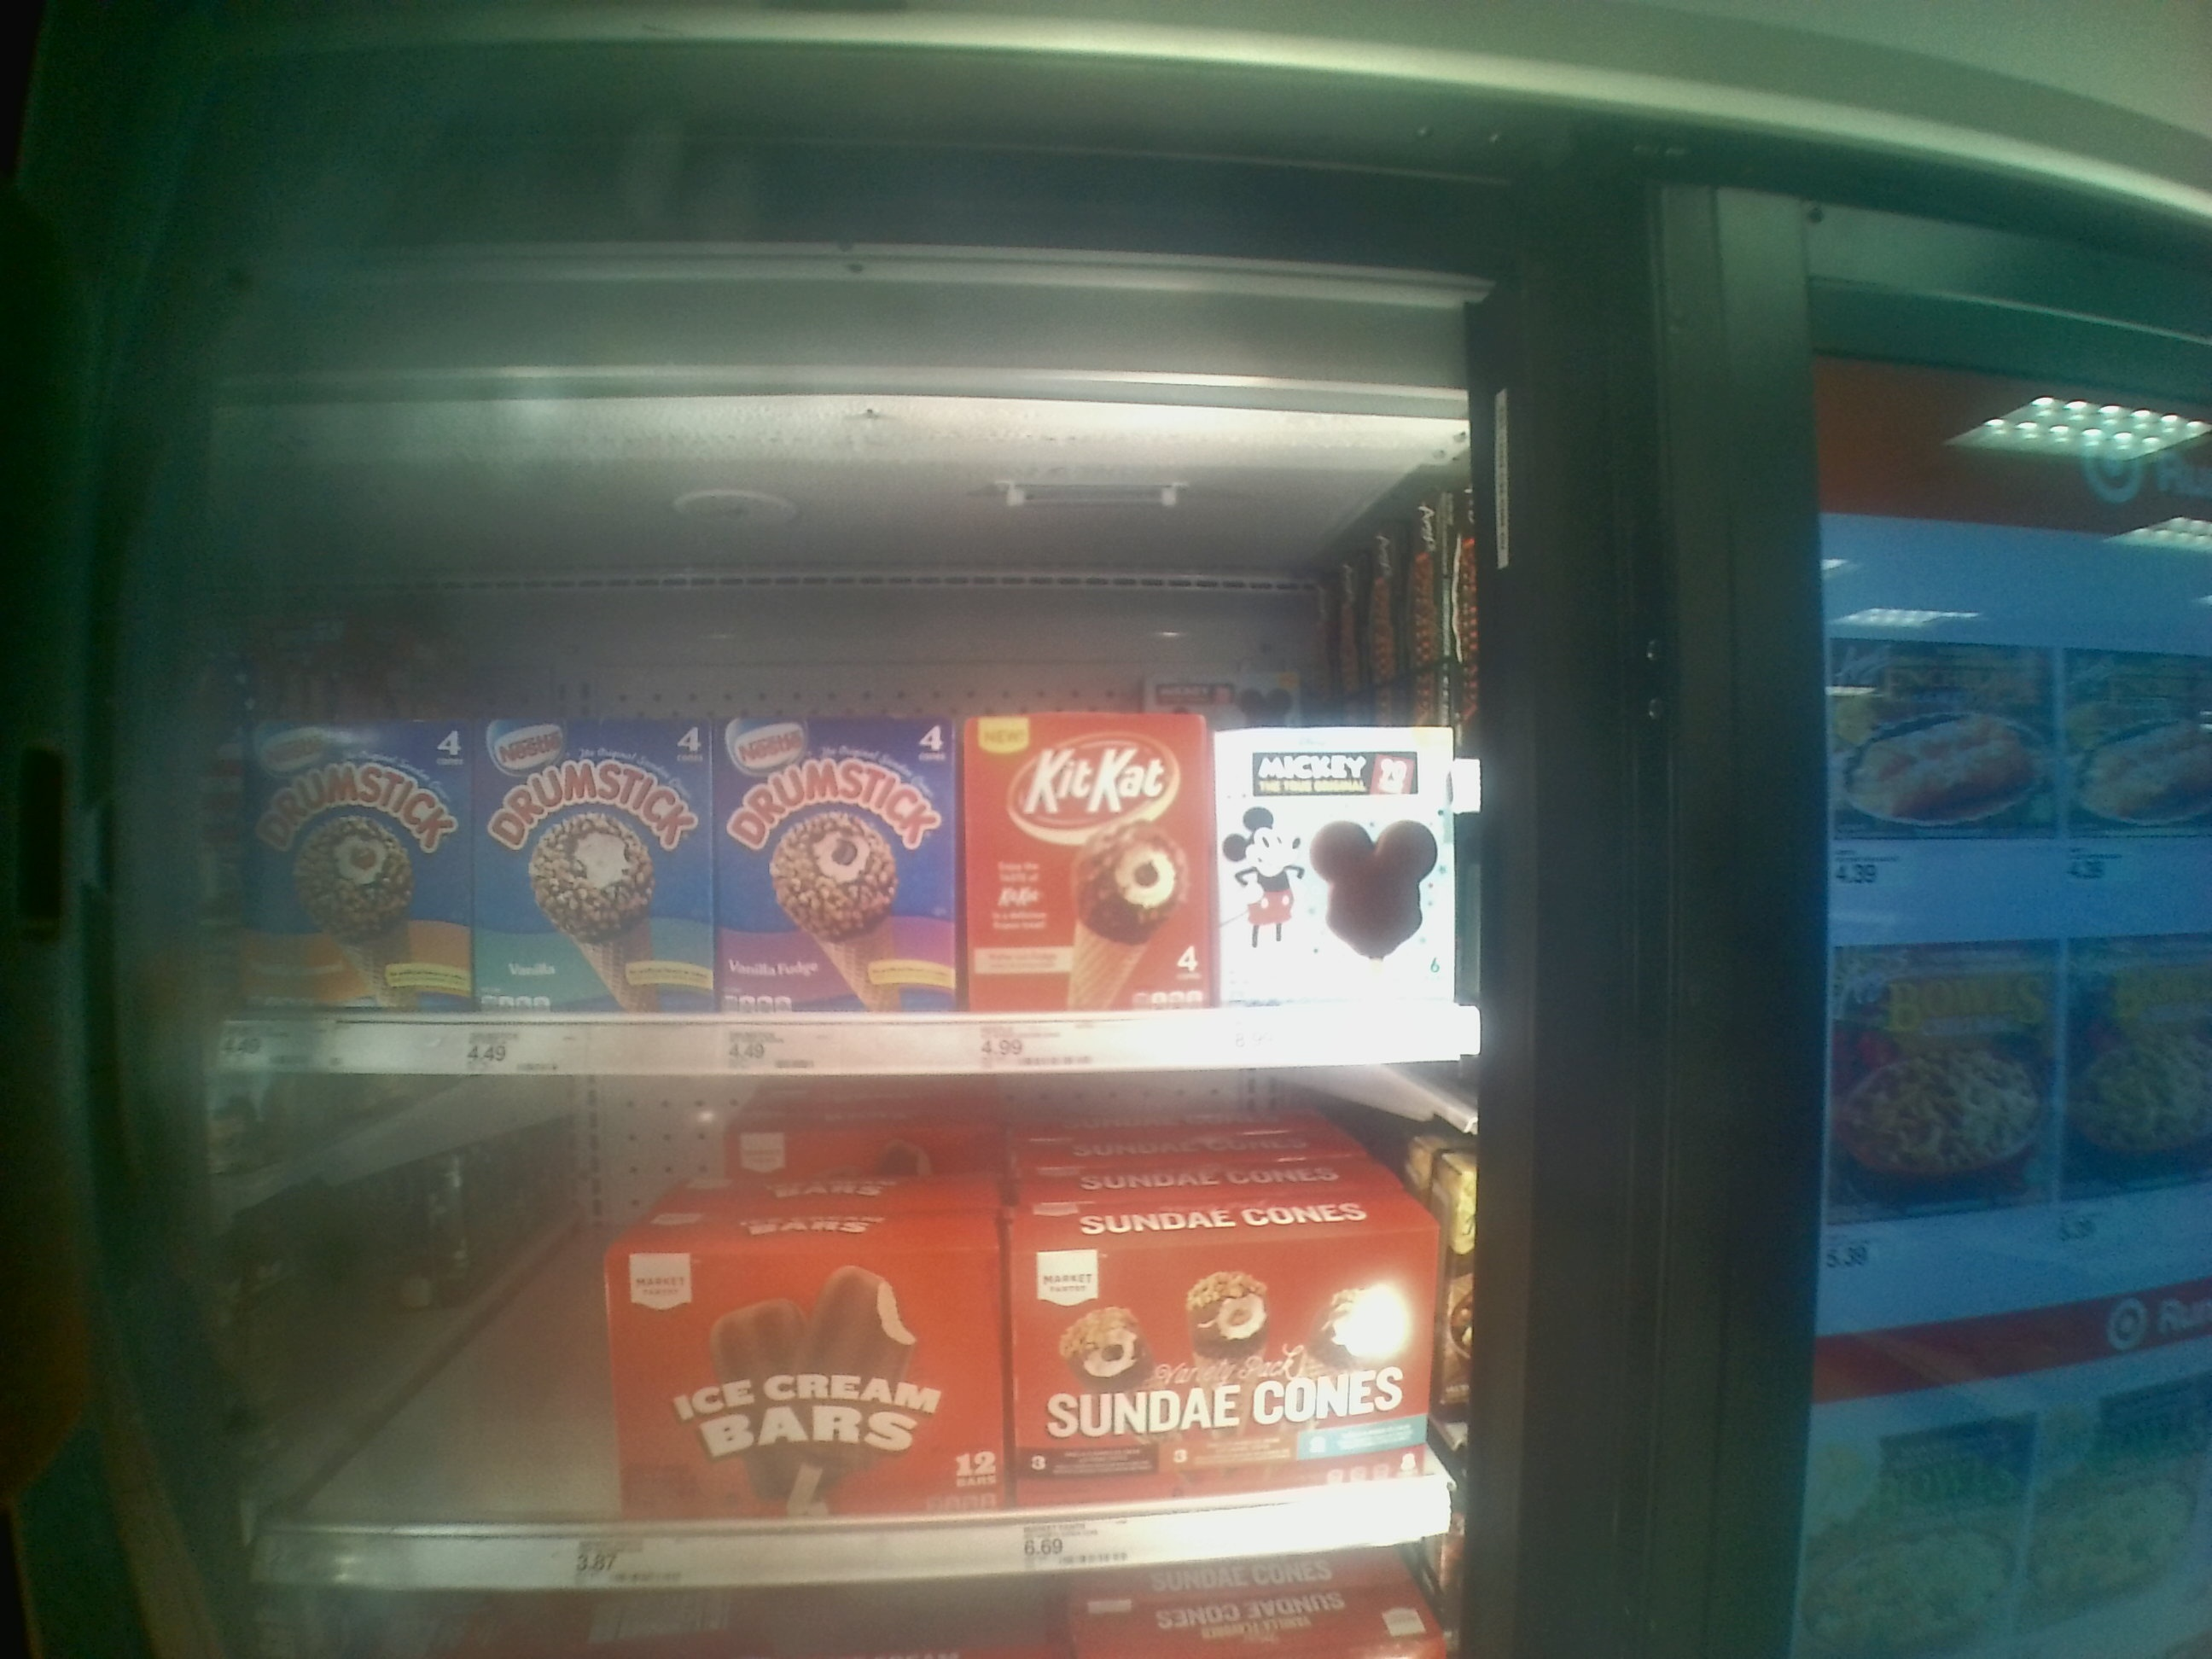frozen-food-shelf: (160, 396, 1503, 1075), (155, 1079, 1514, 1593)
